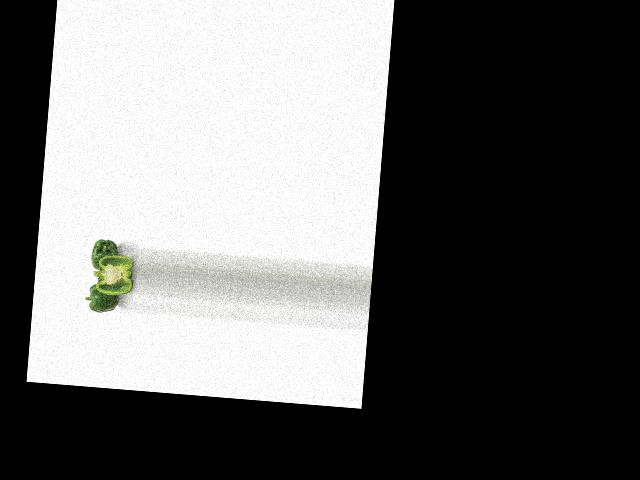bell_pepper: (87, 235, 122, 274)
